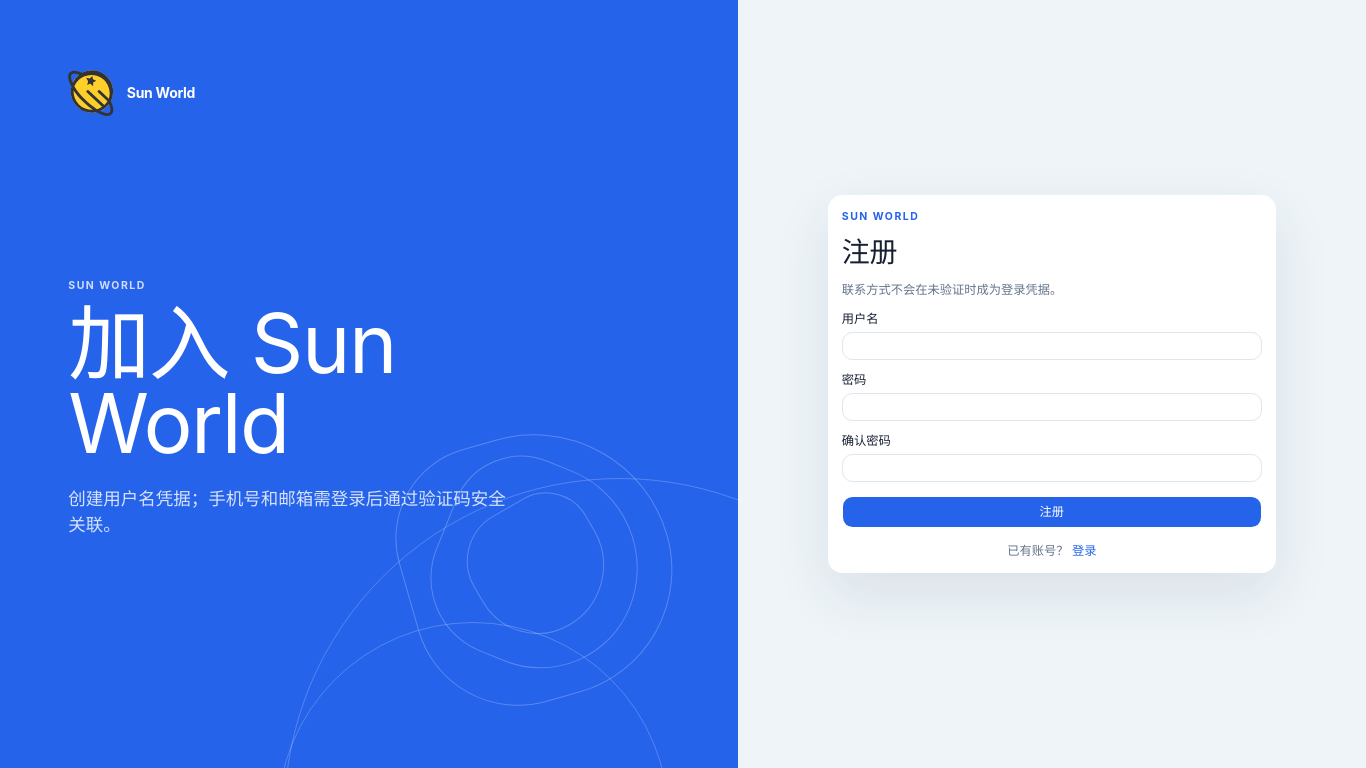
Test: account pages › keeps usernames separate from verified contact identifiers
In the field labelled "用户名": (1052, 346) [842,332,1262,360], type "user@example.com"
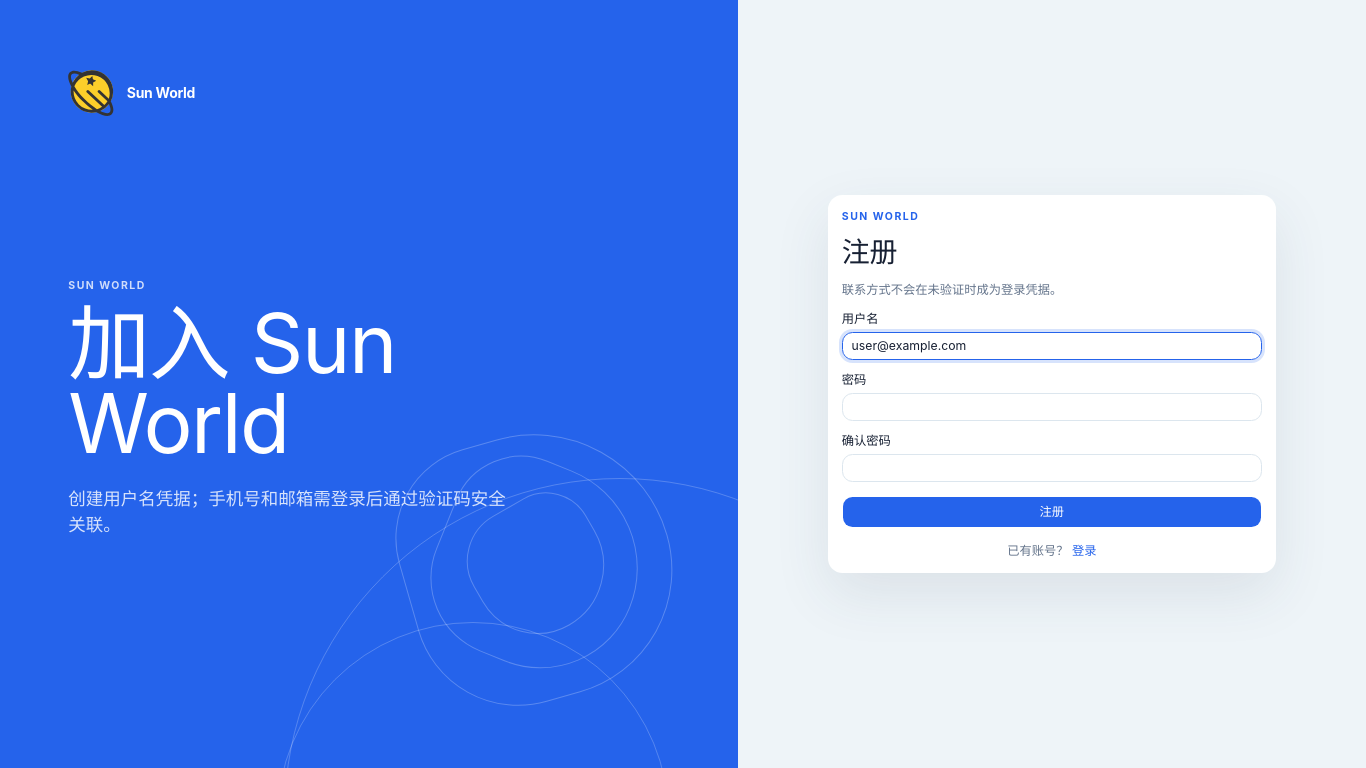
In the password field labelled "密码": (1052, 407) [842,393,1262,421], type "secret123"
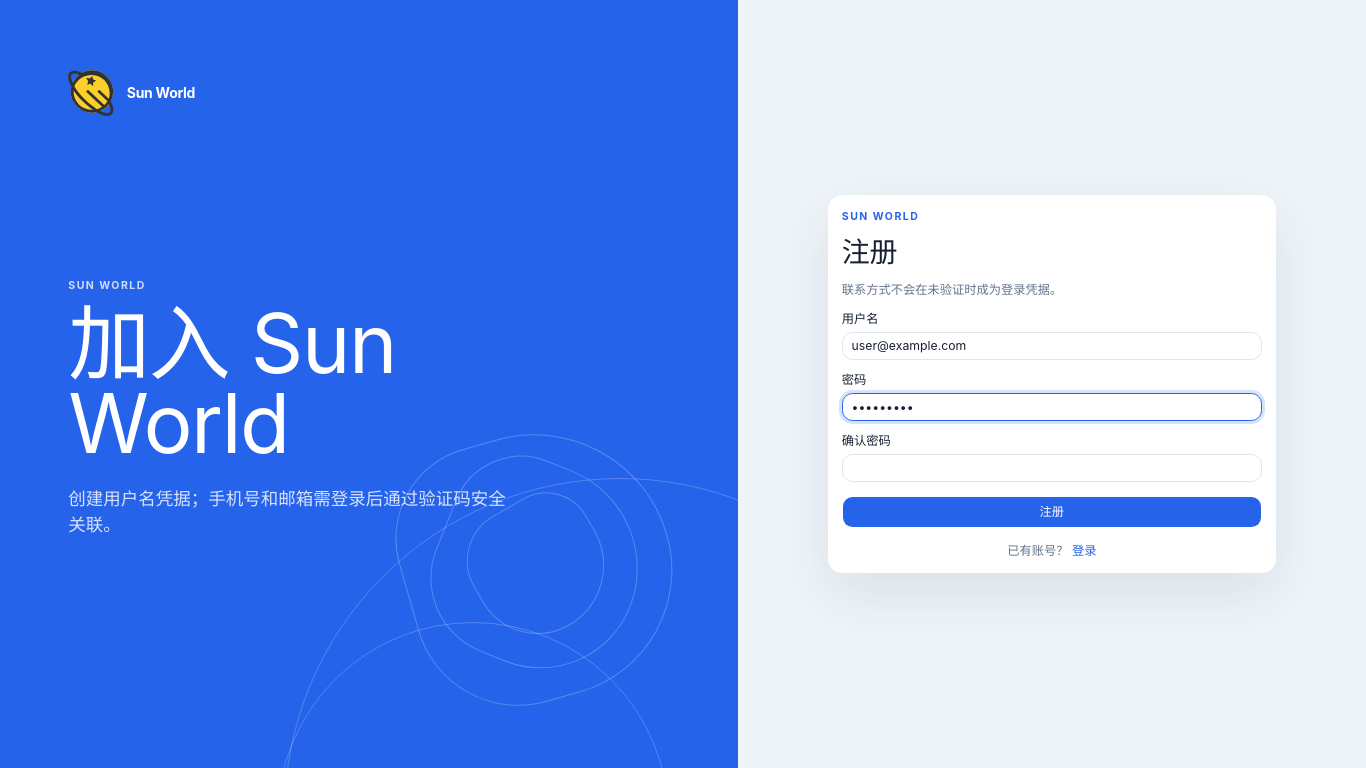
In the password field labelled "确认密码": (1052, 468) [842,454,1262,482], type "secret123"
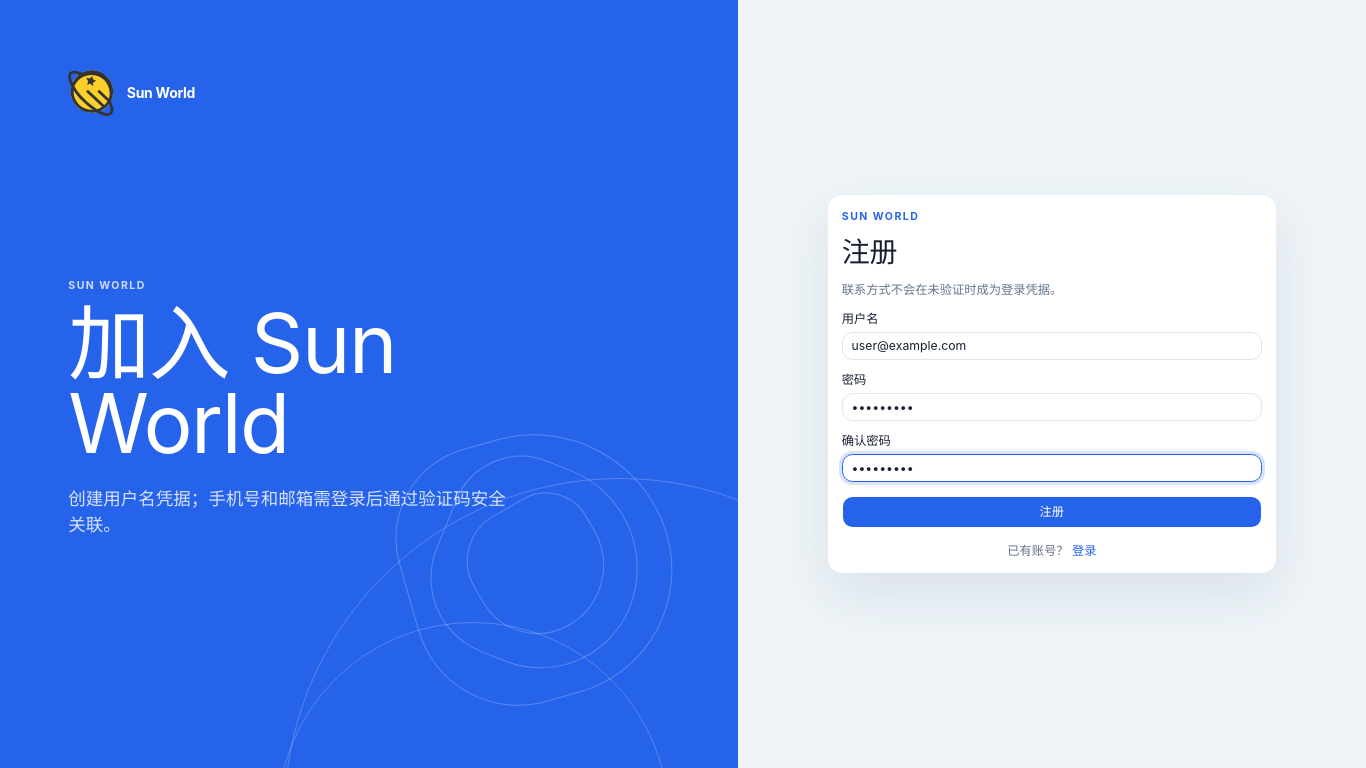
Click the button "注册": (1052, 512) [842,496,1262,528]
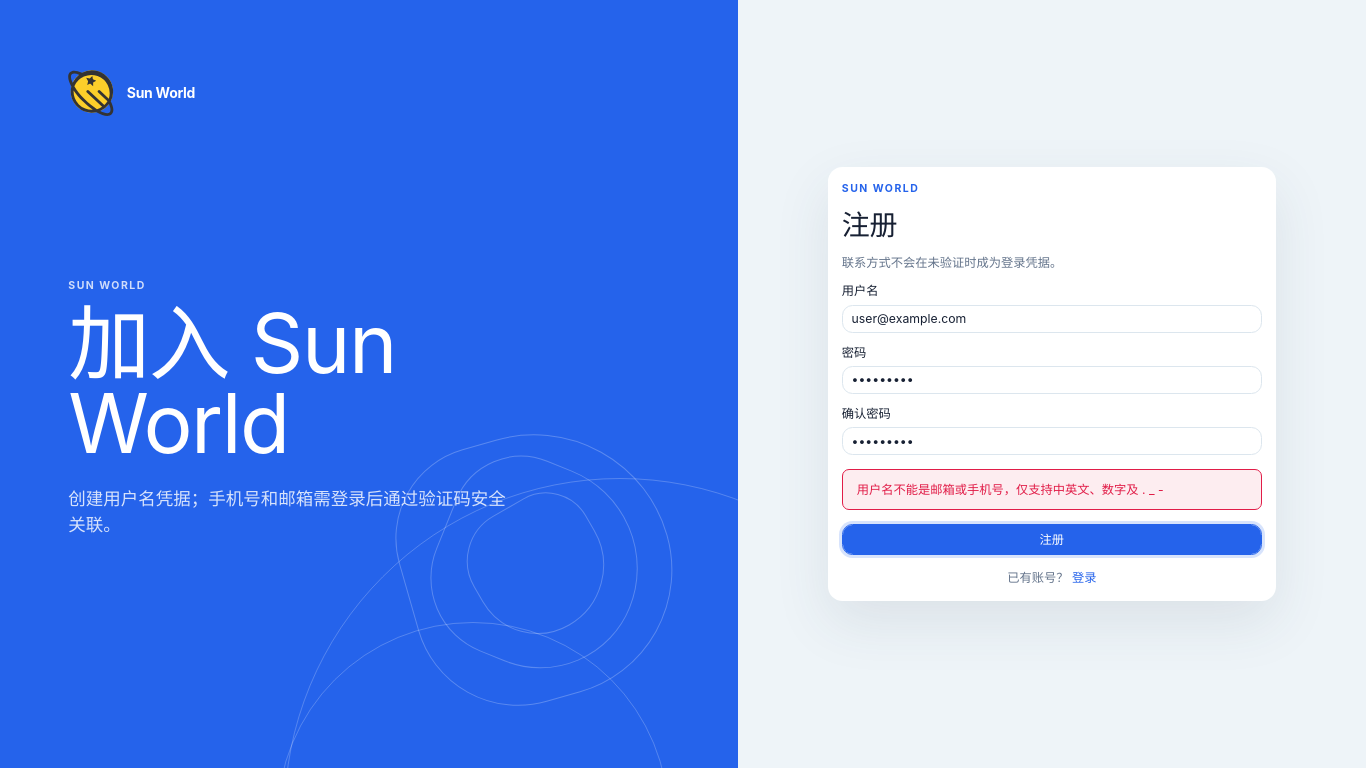
Expected: the message shows "用户名不能是邮箱或手机号", [857,482,1164,497]
